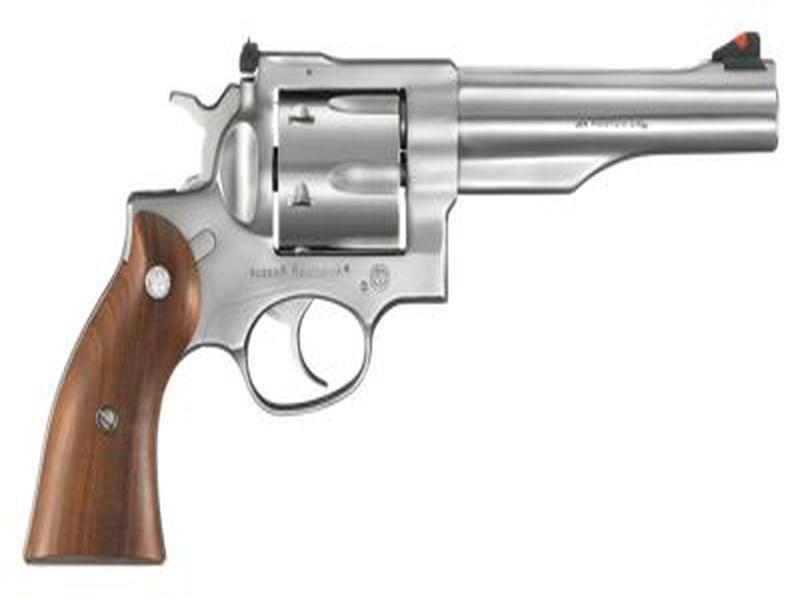Revolver: (16, 21, 784, 575)
